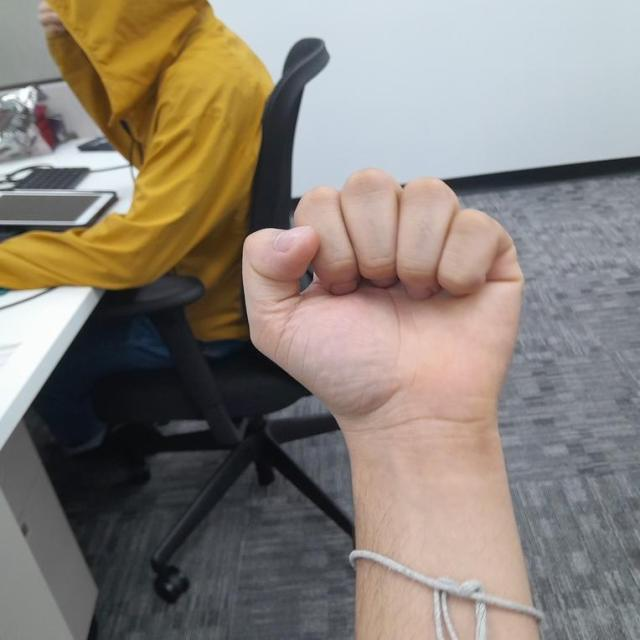fist: (231, 162, 527, 442)
